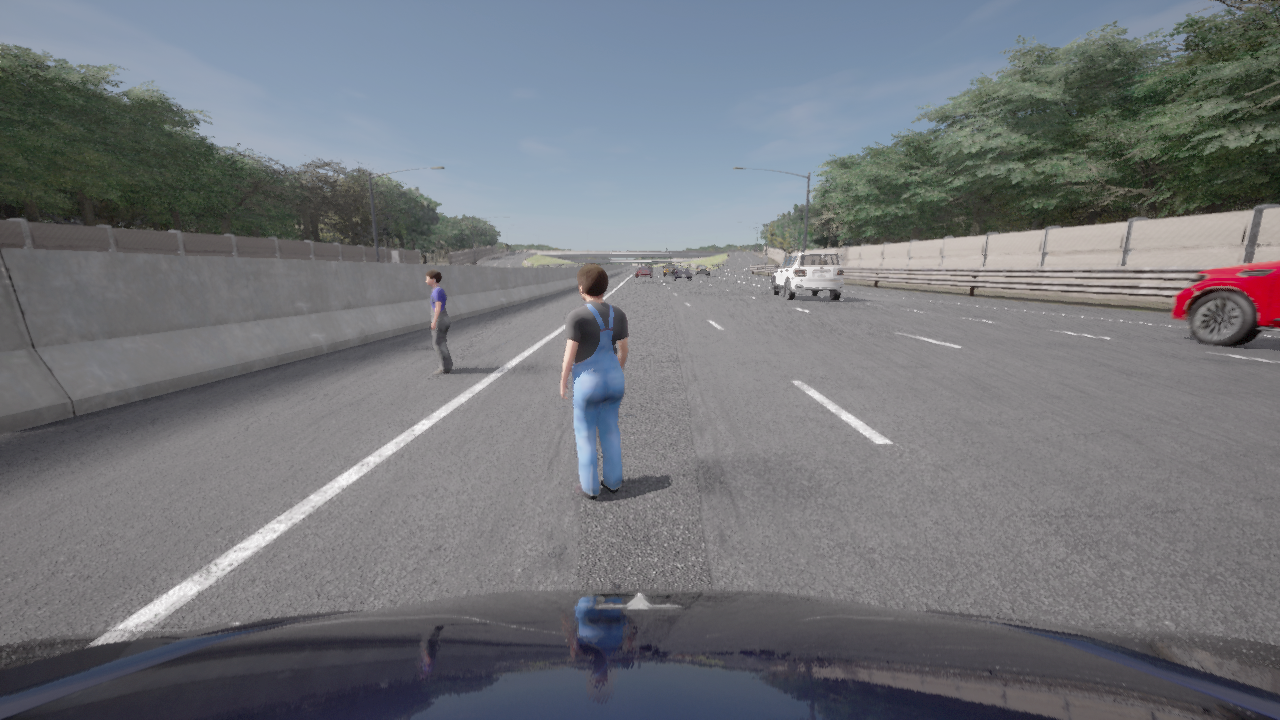cyclist: (0, 588, 1279, 719), (1171, 261, 1279, 346), (772, 252, 844, 300), (671, 265, 692, 281), (692, 264, 710, 276), (636, 266, 651, 277), (663, 264, 674, 275)
pedestrian: (559, 264, 628, 499), (425, 269, 453, 373)
